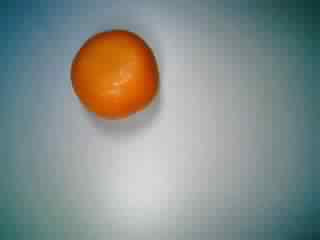orange: (65, 26, 160, 128)
